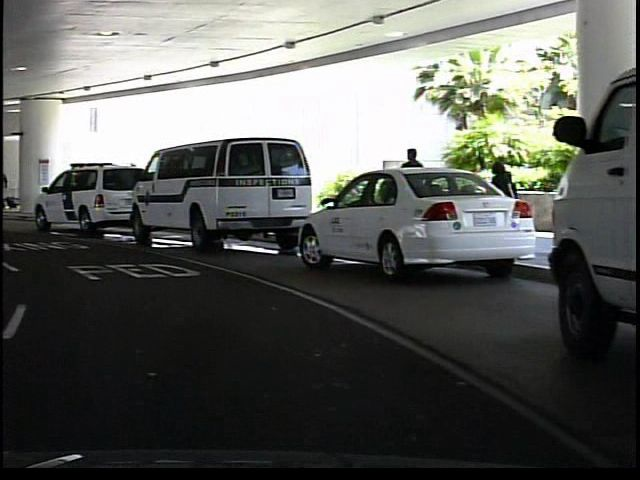person: (483, 155, 521, 244), (395, 144, 429, 239)
